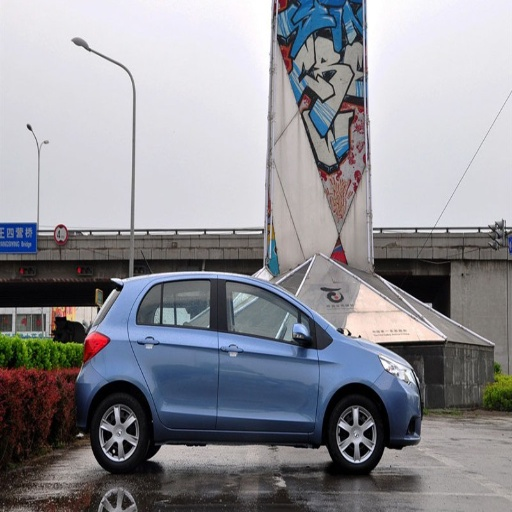back_right_door: (130, 277, 218, 427)
front_right_door: (217, 278, 319, 430)
